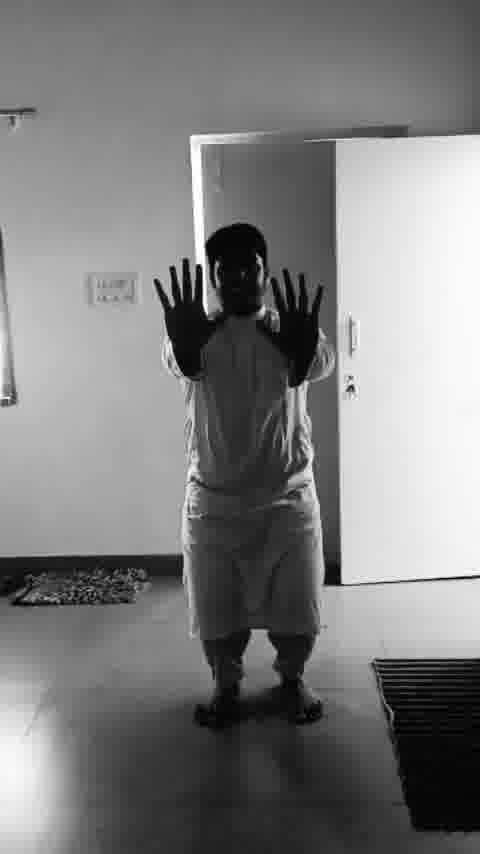duck: (141, 214, 356, 742)
